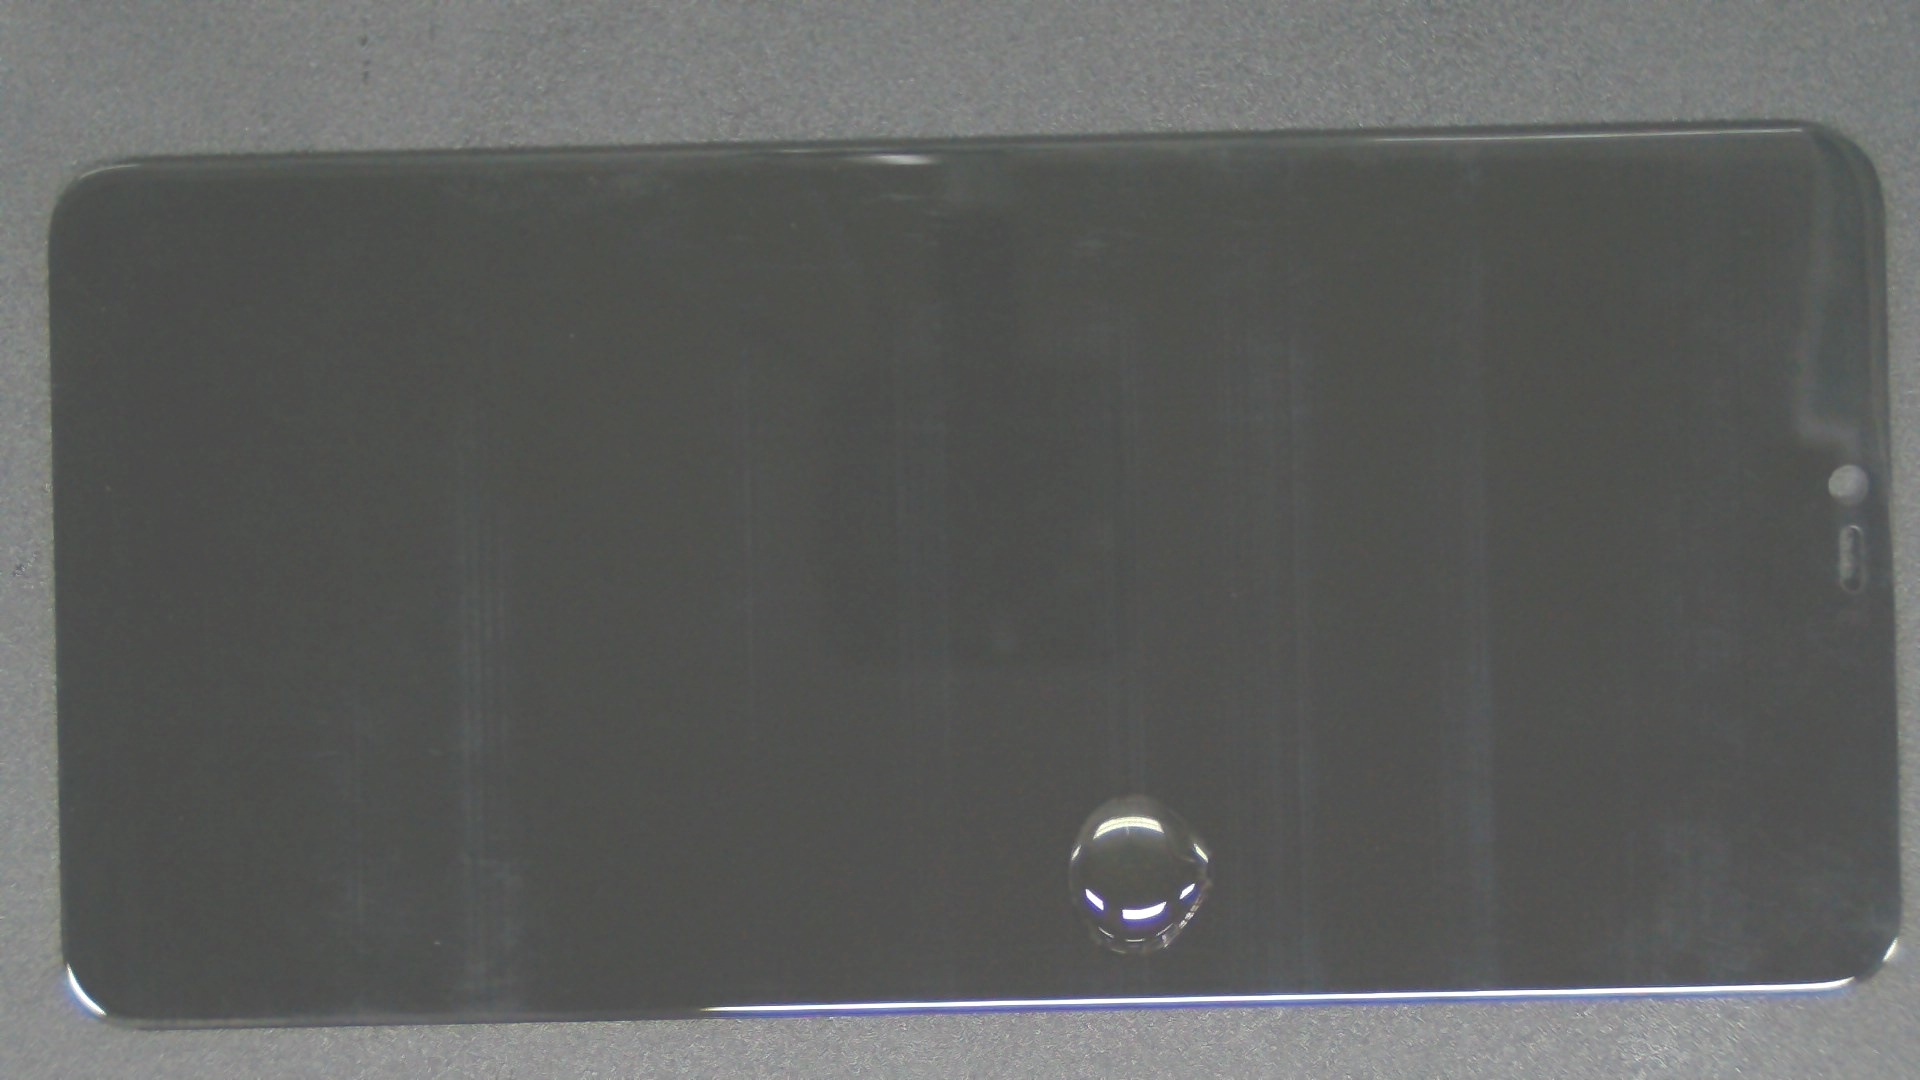oil: (567, 396, 1701, 1080)
